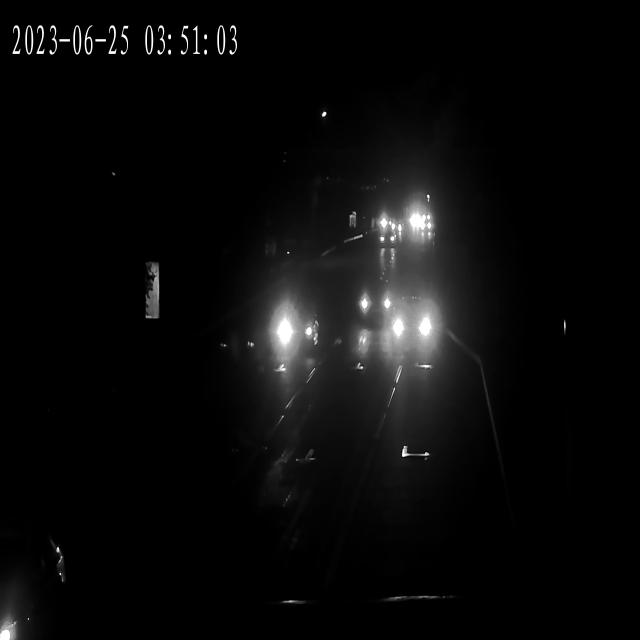Car: (0, 527, 60, 638), (377, 288, 437, 350), (385, 298, 441, 353), (267, 302, 319, 354), (0, 553, 29, 640), (354, 283, 394, 328), (378, 230, 398, 250), (372, 215, 394, 232), (374, 223, 396, 240), (376, 217, 398, 234), (410, 218, 433, 234), (409, 212, 432, 228), (407, 213, 429, 229), (409, 216, 430, 232), (380, 218, 401, 234)
